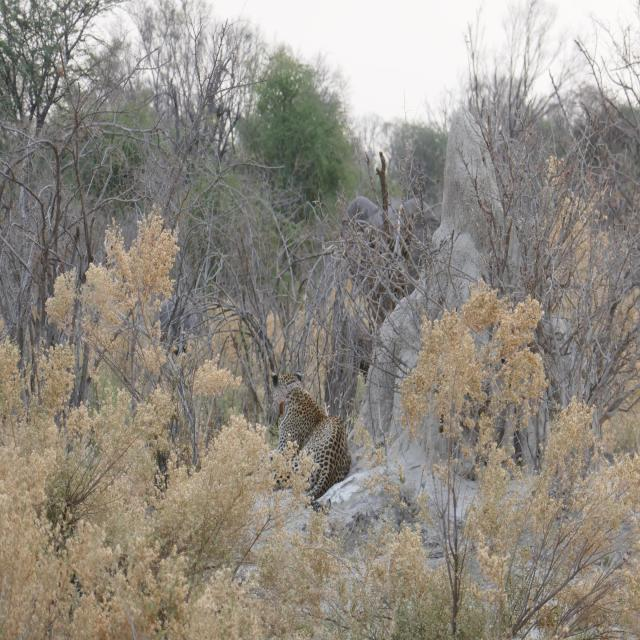Leopard: (262, 374, 352, 514)
